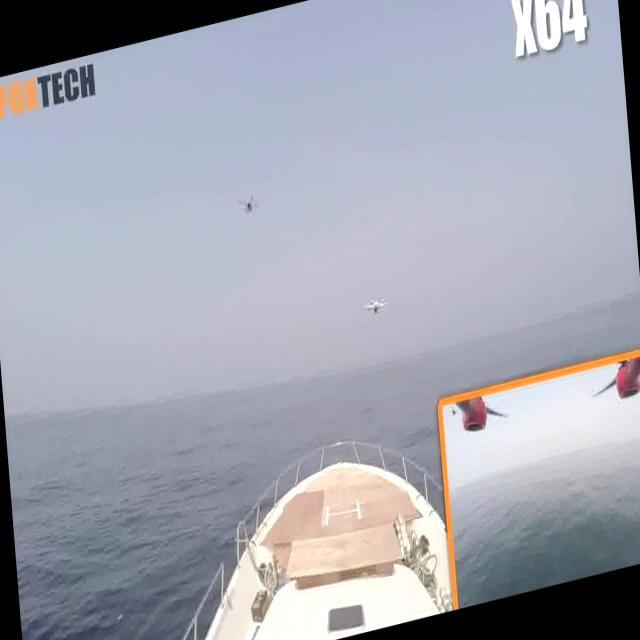drone: (233, 186, 265, 222), (362, 289, 388, 319)
